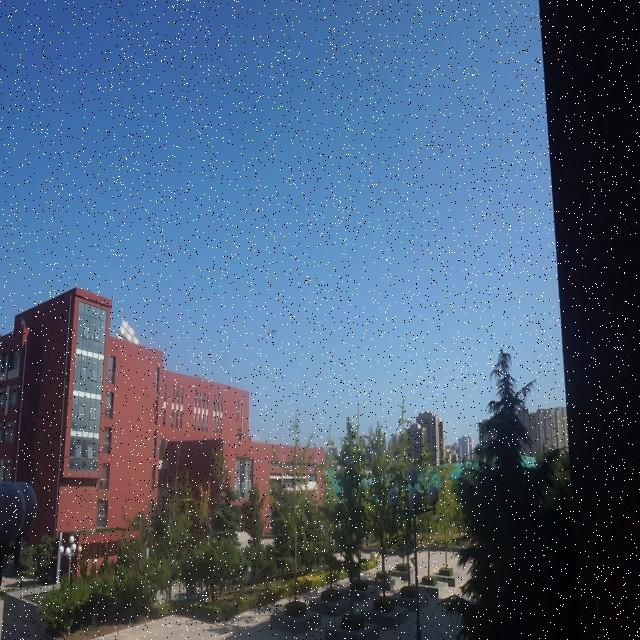UAV: (272, 299, 281, 307)
